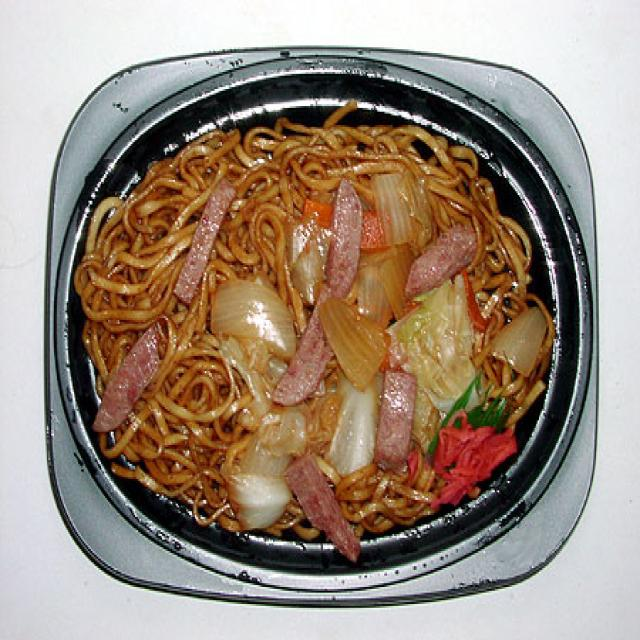面条主食: (28, 26, 609, 608)
